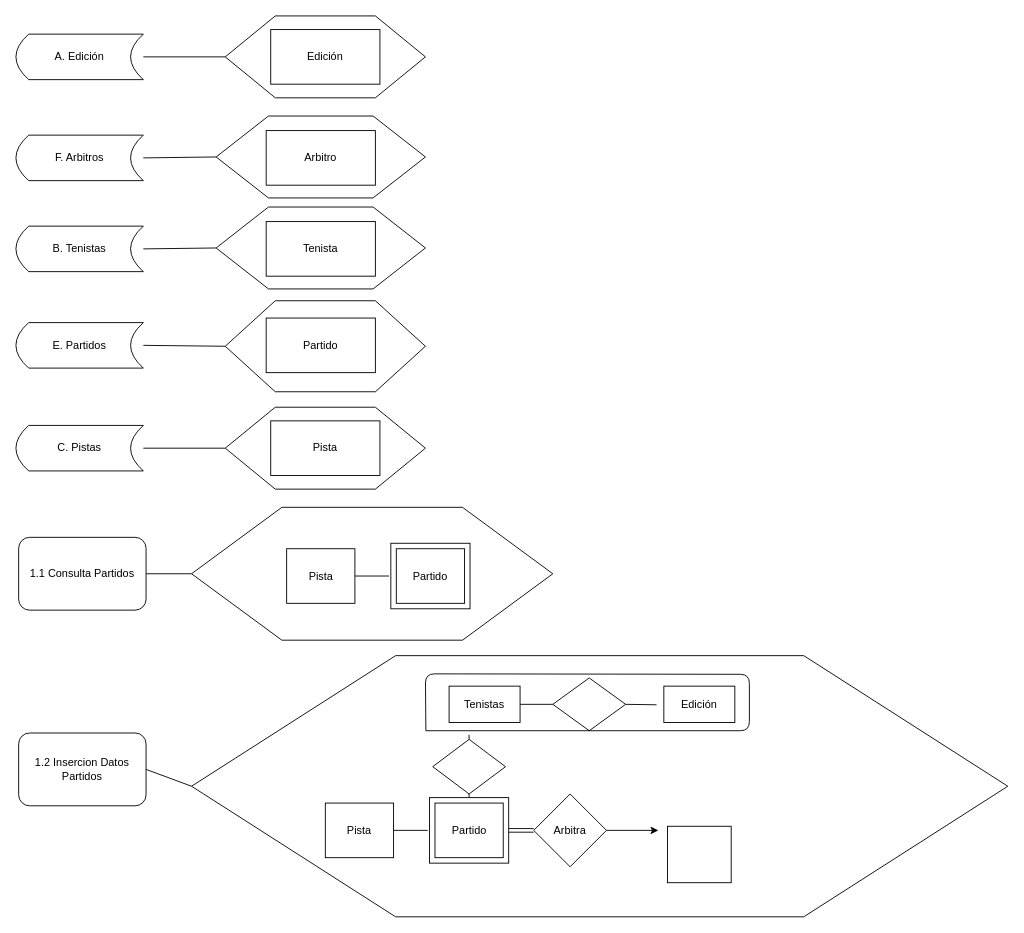
Image size: 1024x933. Some labels were removed from this diagram. The shapes that lost their labels are listed below. From the top down, each one's centre as x and y in pixels, then its label:
point 589,704: Participa
point 469,766: Compiten
point 699,854: Árbitro
